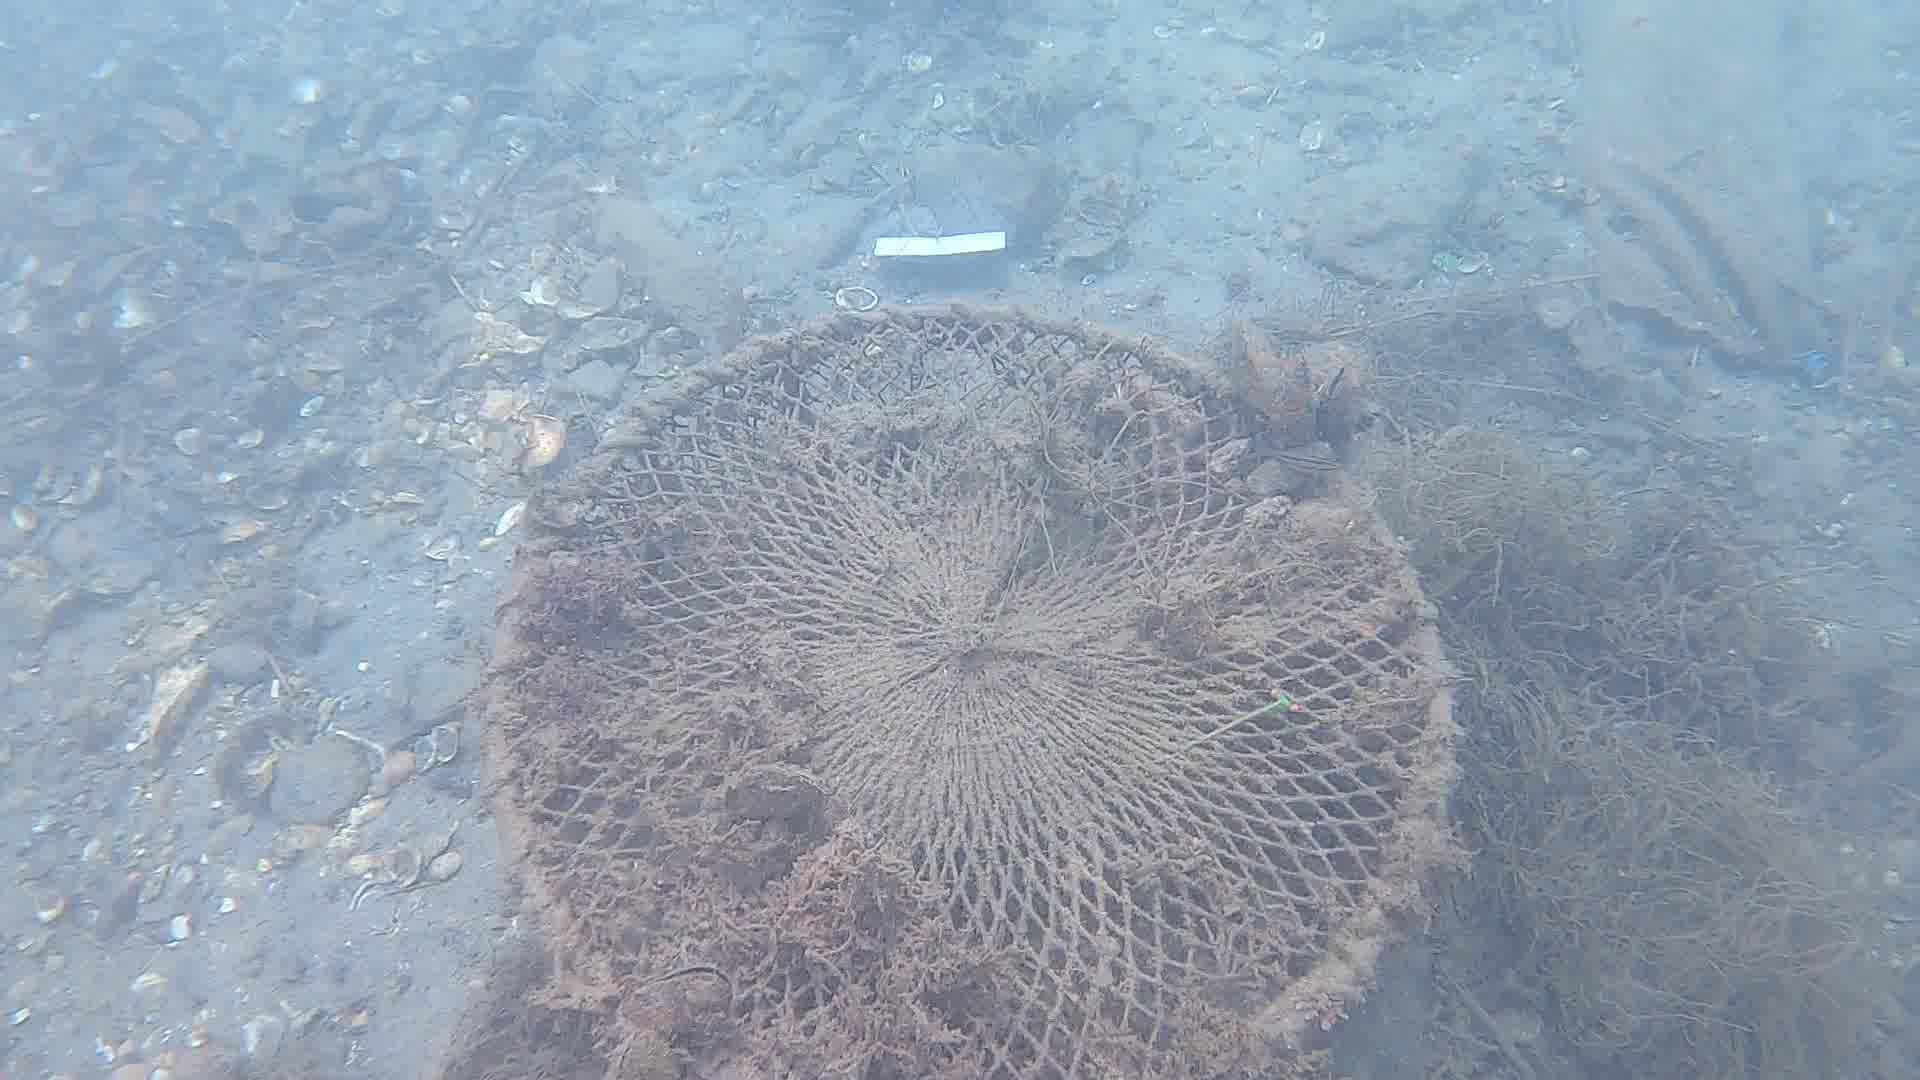circular fish trap: (487, 299, 1466, 1080)
